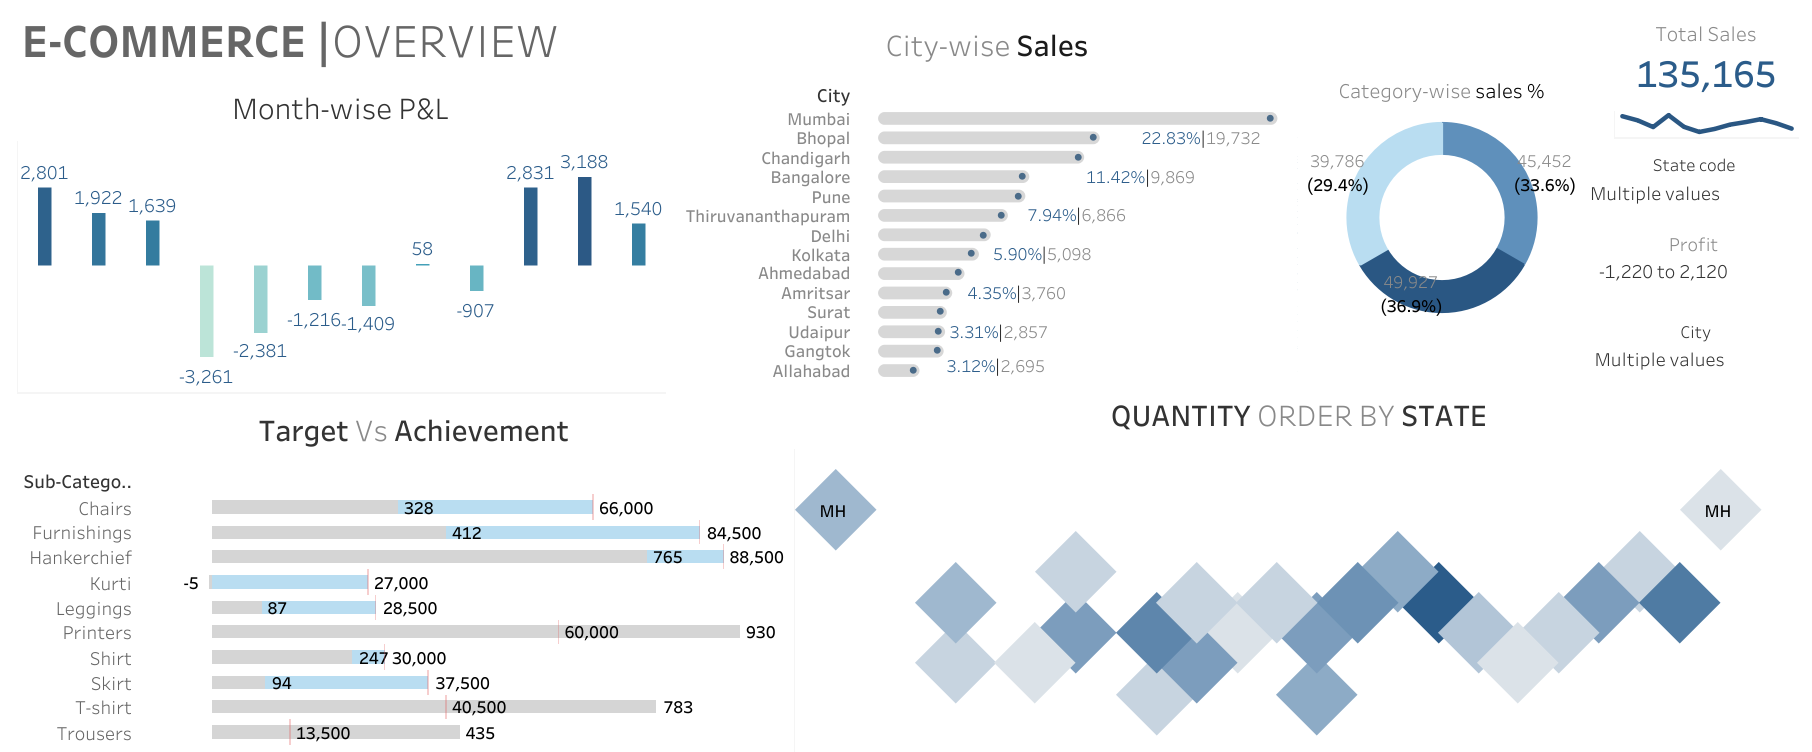

This screenshot's page, from the dashboard's own definition file:
{"tool":"tableau","page":{"name":"Dashboard 1","canvas":[1000,1000],"units":"permille","ordinal":0},"visuals":[{"type":"text","box":[5,9.9,990,74.4]},{"type":"worksheet","title":"Total Sales","mark":"Line","rows":["Sale"],"cols":["Month"],"box":[740,90.6,102.2,171.2]},{"type":"worksheet","title":"Sales by city","mark":"Automatic","rows":["City"],"cols":["Sale"],"box":[375.9,98,341,483.9]},{"type":"worksheet","title":"Month-wise P&L","mark":"Automatic","rows":["Profit"],"cols":["Month"],"box":[9.2,103,357.1,418.1]},{"type":"filter","title":"QTY by State","param":"[federated.16yvmex1he7rqn11m07k9164ok0f].[none:State code:nk]","box":[874.7,119.1,119.1,80.7]},{"type":"filter","title":"Target Vs achievement","param":"[federated.0amr7s71mmh9gb1d3f4zv1bc6a2n].[sum:Profit:qk]","box":[879.1,227.1,109.7,85.6]},{"type":"worksheet","title":"Catogory-wise sales","mark":"Pie","rows":["Calculation_1768788792897650692","Calculation_1768788792897683462"],"box":[717.6,268,159,289.1]},{"type":"filter","title":"Sales by city","param":"[federated.0amr7s71mmh9gb1d3f4zv1bc6a2n].[none:City:nk]","box":[879.7,349.9,115.3,88.1]},{"type":"worksheet","title":"Target Vs achievement","mark":"Bar","rows":["Sub-Category"],"cols":["Target","Profit"],"box":[10.4,531,435.3,457.8]},{"type":"worksheet","title":"QTY by State","mark":"Automatic","rows":["Row"],"cols":["coloumn"],"box":[437.7,600.5,557.4,400.7]}]}

Visuals, with their boxes on the dashboard's canvas, which has no fixed pixel size, in thousandths of its width and height (x1, y1, x2, y2). These are canvas units, not pixel positions in the 1812x752 screenshot, which may show the page scaled, cropped or inside an application window:
text: [x1=5, y1=10, x2=995, y2=84]
"Total Sales" worksheet (Line marks): [x1=740, y1=91, x2=842, y2=262]
"Sales by city" worksheet: [x1=376, y1=98, x2=717, y2=582]
"Month-wise P&L" worksheet: [x1=9, y1=103, x2=366, y2=521]
"QTY by State" filter: [x1=875, y1=119, x2=994, y2=200]
"Target Vs achievement" filter: [x1=879, y1=227, x2=989, y2=313]
"Catogory-wise sales" worksheet (Pie marks): [x1=718, y1=268, x2=877, y2=557]
"Sales by city" filter: [x1=880, y1=350, x2=995, y2=438]
"Target Vs achievement" worksheet (Bar marks): [x1=10, y1=531, x2=446, y2=989]
"QTY by State" worksheet: [x1=438, y1=600, x2=995, y2=1001]
